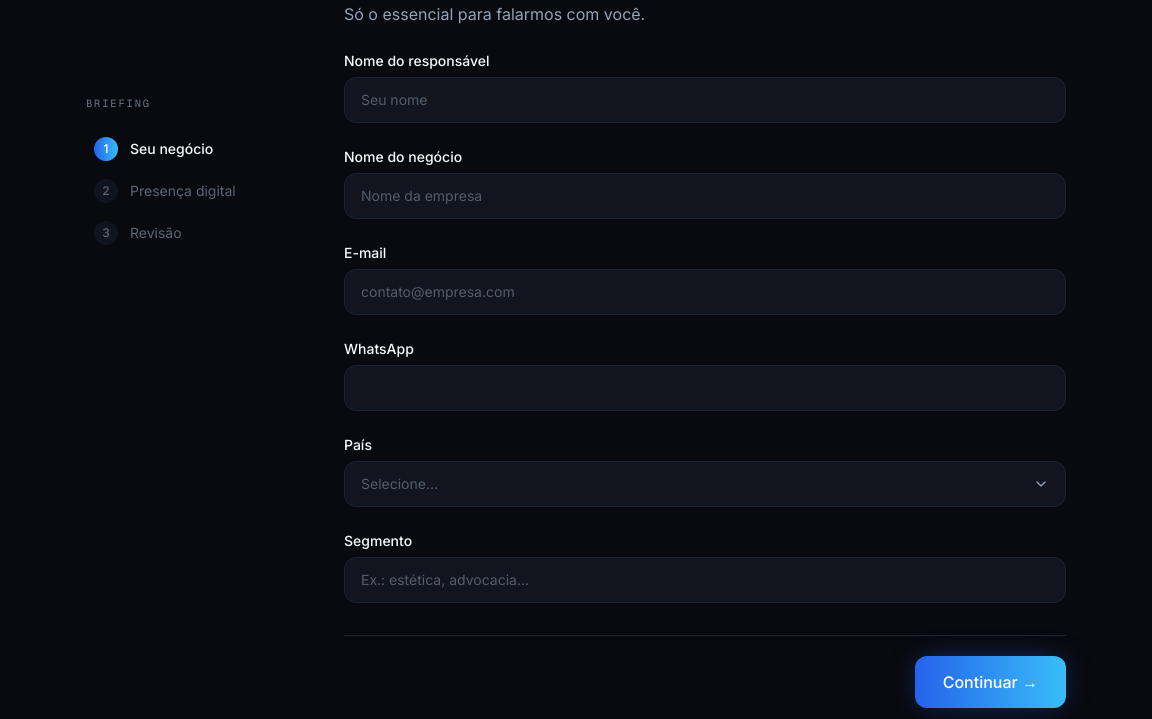
Test: BriefingForm (diagnostico) › blocks advancing a step with invalid required fields
(page scrolled)
Click the button "Continuar →". click: (990,682)
box: x1=915 y1=656 x2=1066 y2=708
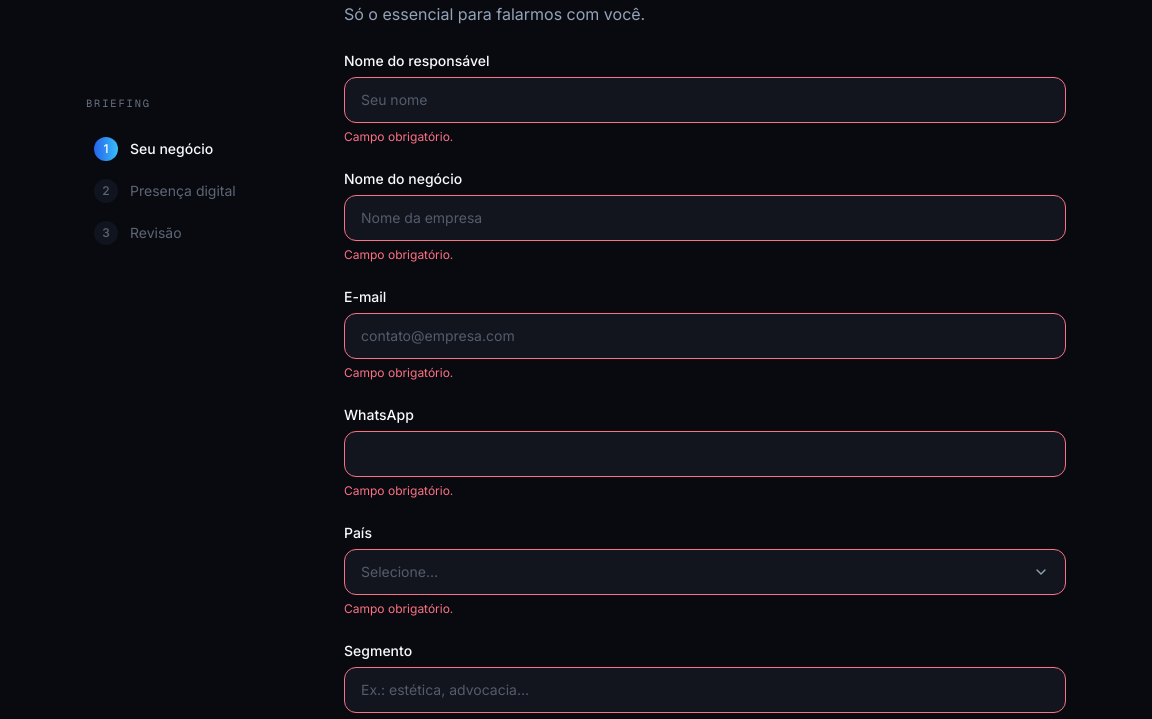
Expected: the text "Campo obrigatório." below "Nome do responsável" is shown, x1=344 y1=129 x2=453 y2=144
